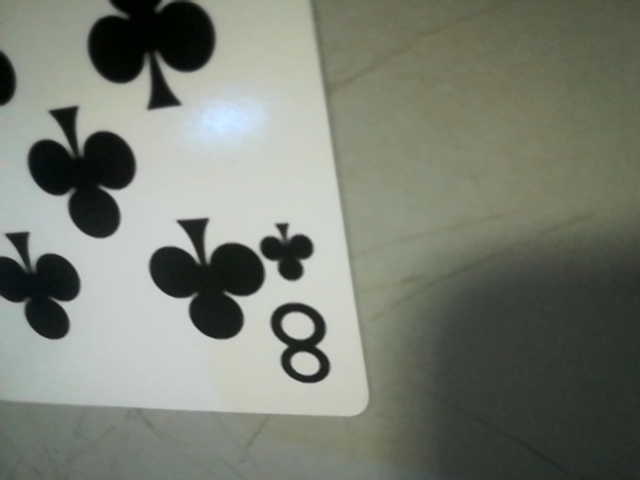mh 8: (251, 210, 350, 399)
